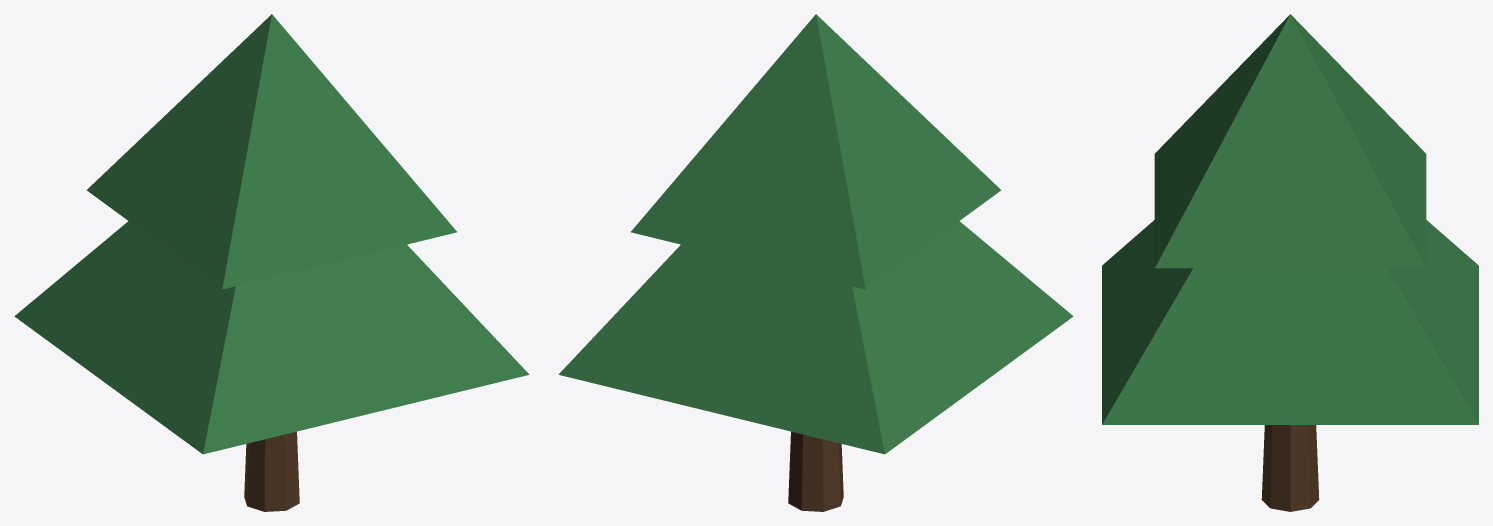
File: pine_03.obj
3 views of the same model, side by side, from view 1: azimuth 30°, elevation 25°; view 2: azimuth 150°, elevation 25°; view 3: azimuth 270°, elevation 25° (orthographic).
Parts seen in each view (by area): view 1: foliage, bark; view 2: foliage, bark; view 3: foliage, bark.
Boxes of the visible parts, x1=… form: foliage: x1=14, y1=14, x2=529, y2=454; bark: x1=244, y1=431, x2=299, y2=511; foliage: x1=558, y1=14, x2=1073, y2=454; bark: x1=788, y1=431, x2=843, y2=511; foliage: x1=1102, y1=14, x2=1478, y2=424; bark: x1=1261, y1=425, x2=1319, y2=511.
Size of the model in its own units: 2.1 by 2.99 by 2.1.
